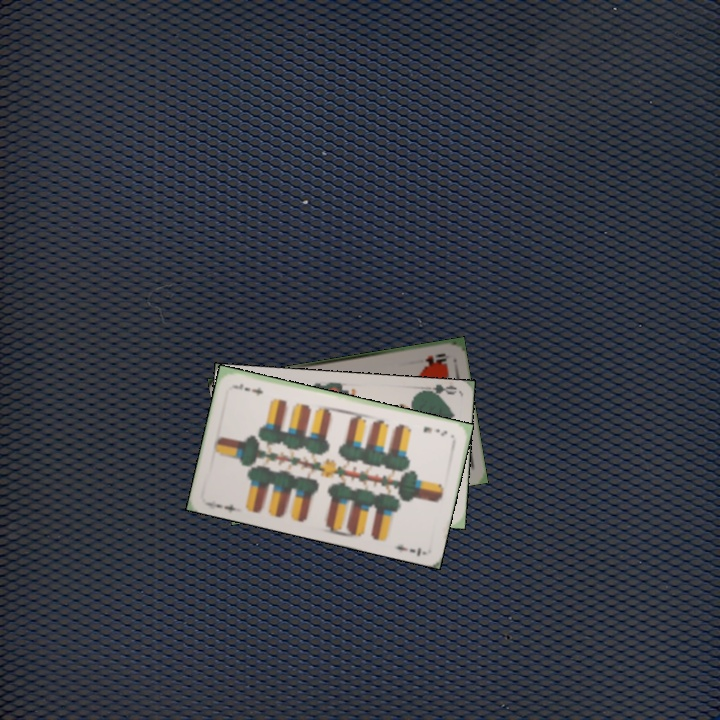E7: (419, 422, 450, 439), (211, 500, 239, 515)
GO: (417, 381, 458, 402)
HO: (421, 349, 451, 365)
